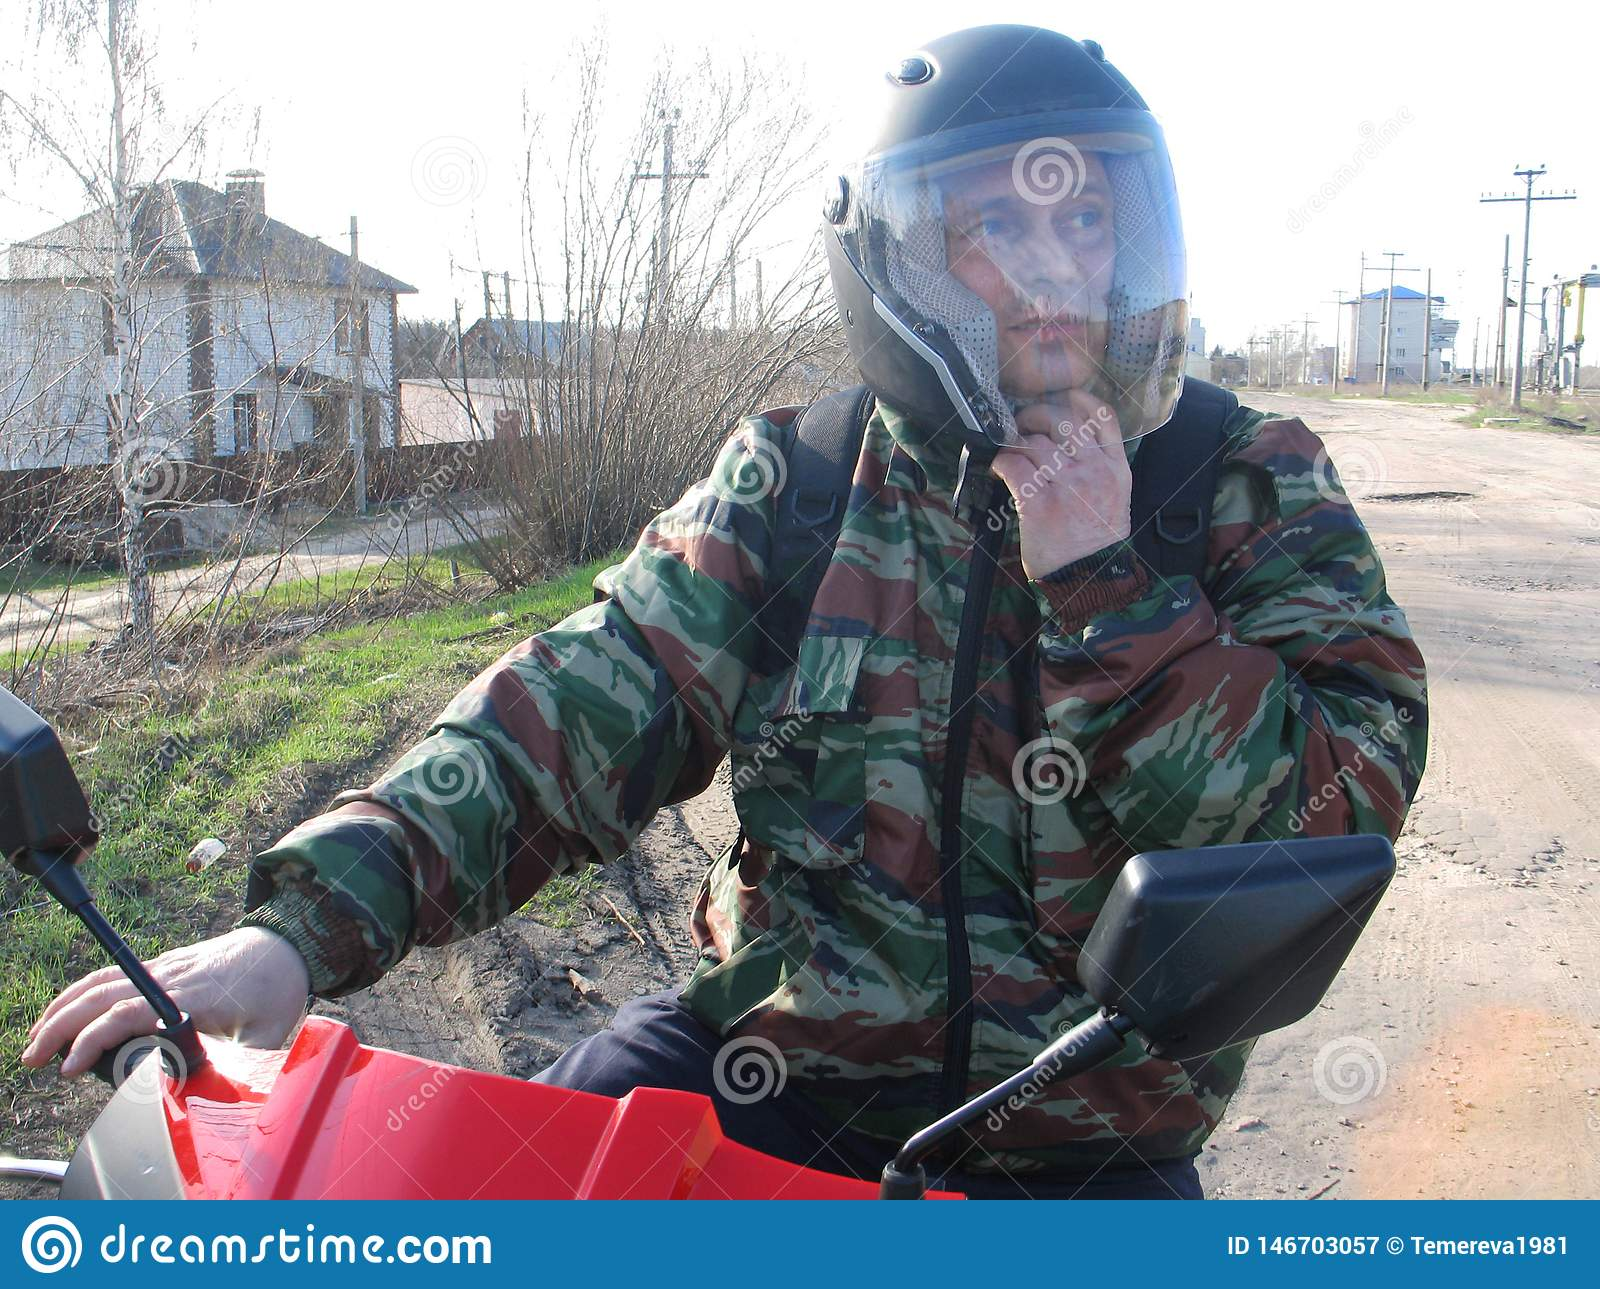helmet: (814, 49, 1210, 441)
